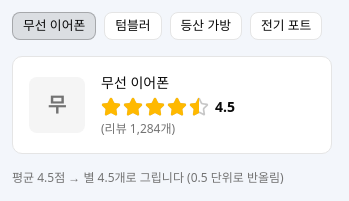
Test: half stars: an average is drawn to the nearest half star
The width and height of the screenshot is (349, 201).
Expected: the text "(리뷰 1,284개)" is shown, [101,121,175,137]
What coordinates should you click on to do the following:
click the radio button labelled "텀블러"
I would click on:
 (133, 26)
Its box is [104,12,162,40].
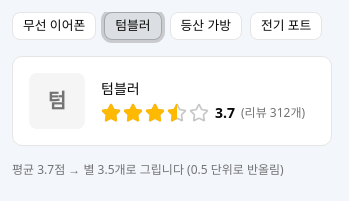
Expected: the message shows "평균 3.7점 → 별 3.5개로 그립니다", [12,161,284,178]
What coordinates should you click on to do the following:
click the radio button labelled "등산 가방"
I would click on:
 (206, 26)
Its box is [170,12,242,40].
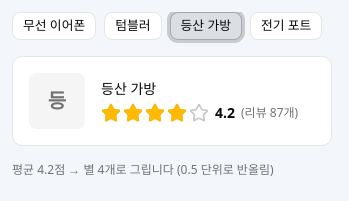
Expected: the message shows "평균 4.2점 → 별 4개로 그립니다", [12,161,274,178]
